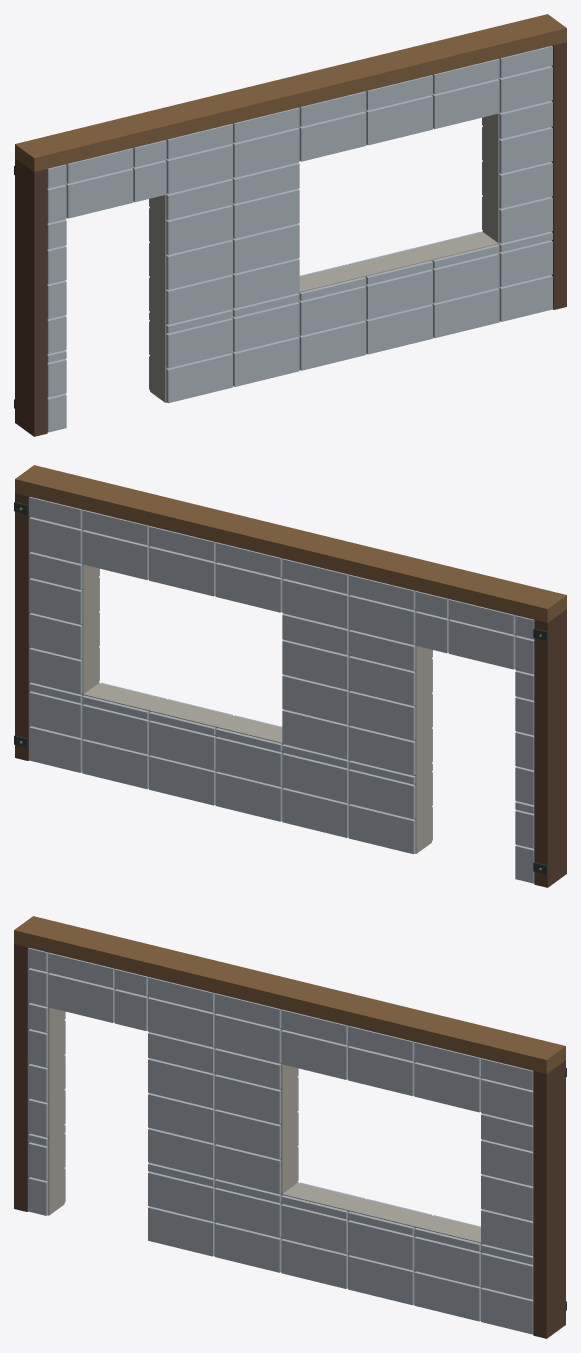
3 renders of one model, top to bottom at view 1: azimuth 30°, elevation 25°; view 2: azimuth 150°, elevation 25°; view 3: azimuth 330°, elevation 25°, orthographic.
Parts seen in each view (by area): view 1: 共享墙面用途 · fallback4; view 2: 共享墙面用途 · fallback4; view 3: 共享墙面用途 · fallback4.
Part boxes in pixels (left/top/right/bottom): 共享墙面用途 · fallback4: left=14, top=14, right=566, bottom=436; 共享墙面用途 · fallback4: left=14, top=465, right=566, bottom=887; 共享墙面用途 · fallback4: left=14, top=916, right=566, bottom=1338.
Bounding box in the file's own units: 6.4 × 3.2 × 0.44.
Materials: 6 (6 with a texture image).
